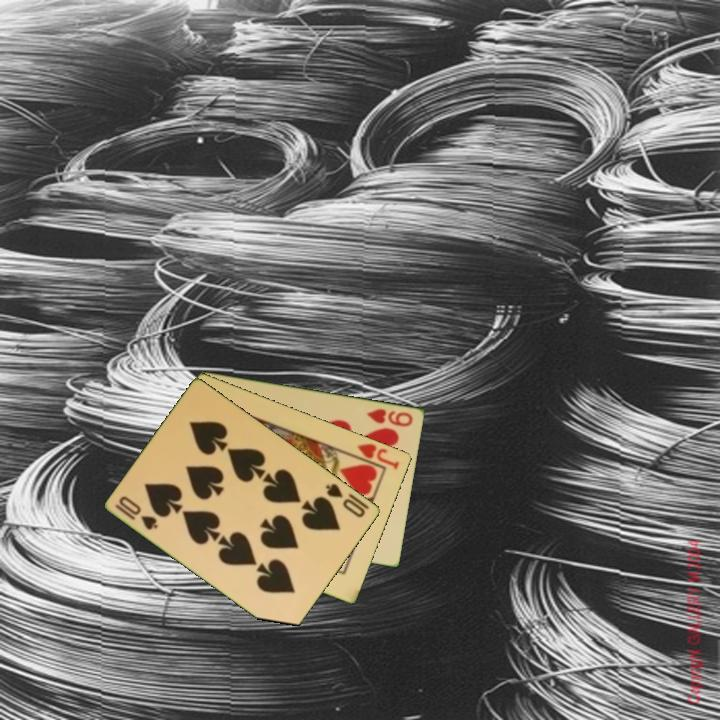10s: (112, 492, 161, 533), (322, 480, 369, 520)
9h: (363, 405, 416, 429)
Jh: (346, 440, 403, 472)
